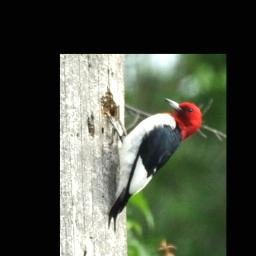Woodpecker: (109, 97, 202, 230)
